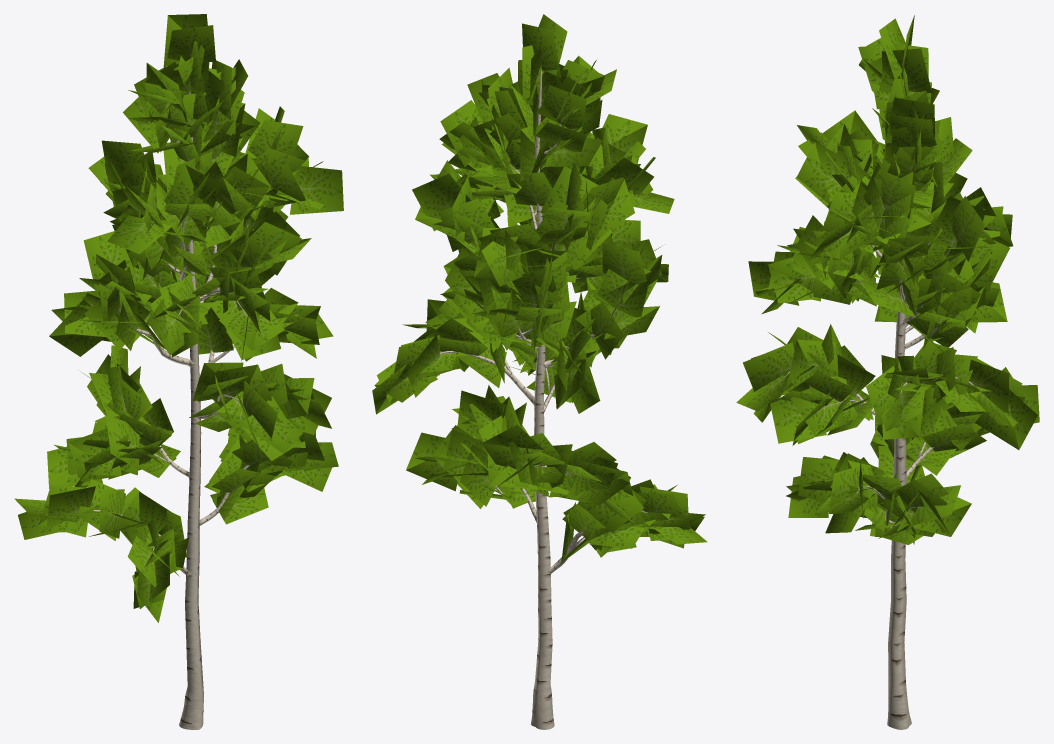
File: Brich_03.glb
3 renders of one model, left to right at view 1: azimuth 30°, elevation 25°; view 2: azimuth 150°, elevation 25°; view 3: azimuth 270°, elevation 25°, orthographic.
Parts seen in each view (by area): view 1: Birch_03; view 2: Birch_03; view 3: Birch_03.
Part boxes in pixels (box(x1,y1,x2,y2)): Birch_03: box(14, 14, 343, 729); Birch_03: box(372, 14, 707, 729); Birch_03: box(736, 15, 1039, 729).
Bounding box in the file's own units: 7.59 × 17.08 × 6.69.
1 material, 1 textured.
